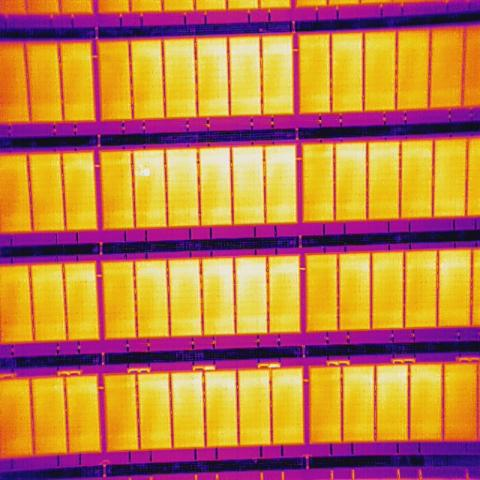fault: (139, 166, 152, 179)
